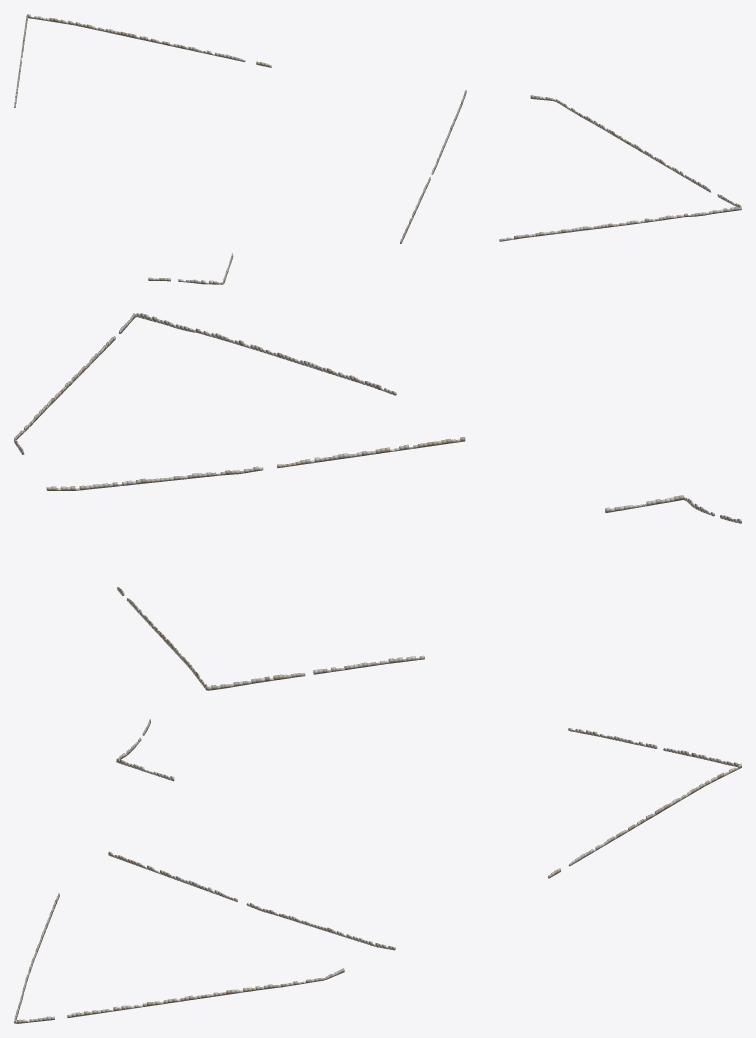
File: farm_3_22_collision.glb
The picture shows the model from 3 angles, top to bottom: view 1: azimuth 30°, elevation 25°; view 2: azimuth 150°, elevation 25°; view 3: azimuth 270°, elevation 25°; orthographic projection. The views are drawn at different scales.
Parts seen in each view (by area): view 1: geometry_0; view 2: geometry_0; view 3: geometry_0.
Boxes of the visible parts, x1=… form: geometry_0: x1=14, y1=14, x2=741, y2=284; geometry_0: x1=14, y1=313, x2=741, y2=690; geometry_0: x1=14, y1=719, x2=741, y2=1023.
Size of the model in its own units: 254 by 21.77 by 272.
